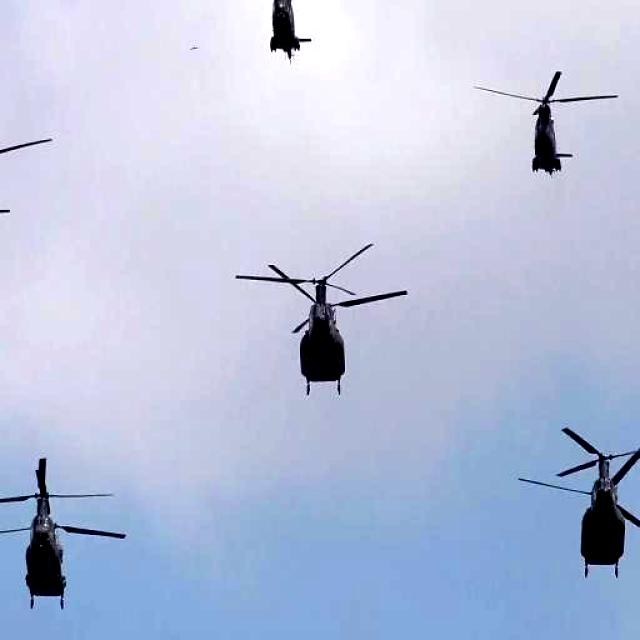drone: (236, 246, 408, 394), (0, 458, 128, 618), (526, 428, 640, 584), (482, 64, 624, 174), (225, 0, 344, 66), (0, 119, 51, 249)
